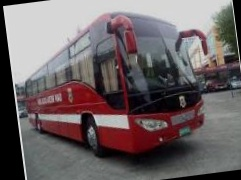bus: (15, 0, 221, 169)
